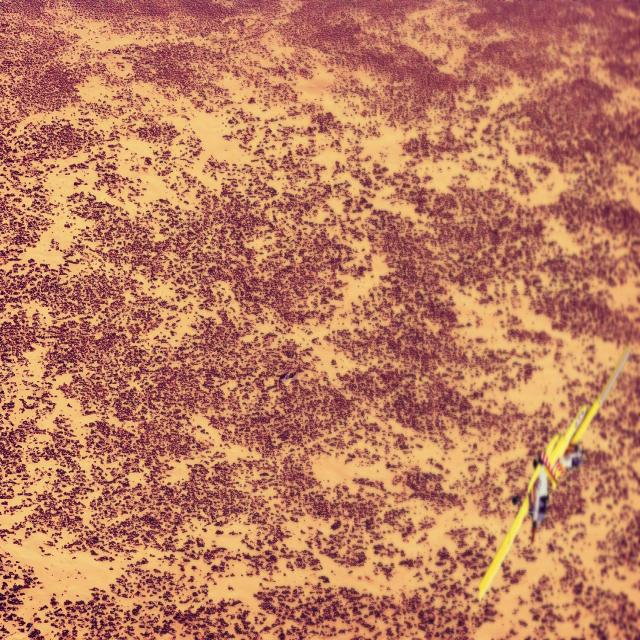airplane: (478, 345, 630, 602)
